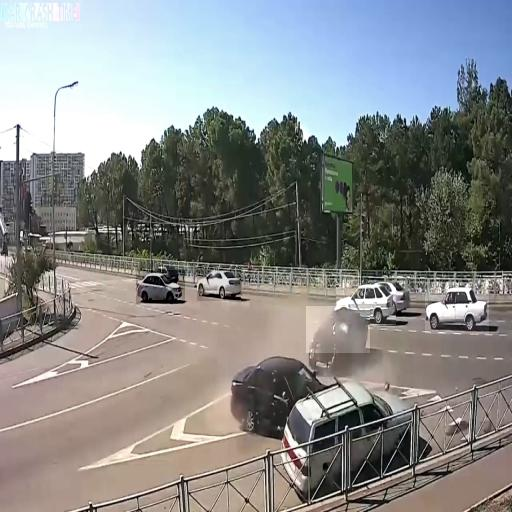小汽车: (306, 306, 370, 369), (425, 282, 489, 334), (336, 284, 396, 326), (136, 270, 185, 304), (198, 268, 242, 302)
小汽车撞小汽车: (228, 353, 414, 486)
